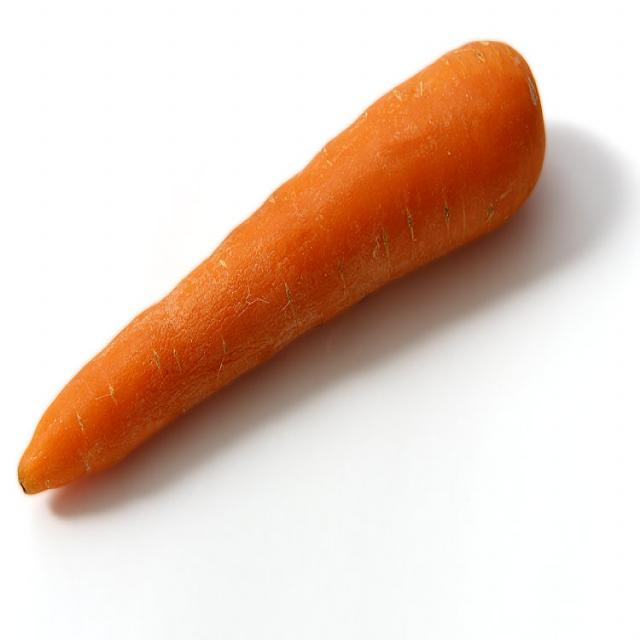Carrot: (17, 40, 551, 498)
